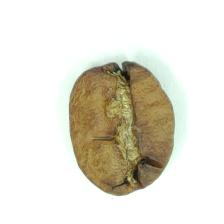NG: (83, 65, 161, 187)
